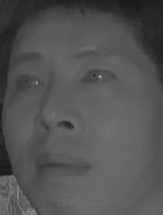eye: (79, 62, 120, 90), (6, 73, 47, 95)
mouth: (29, 148, 93, 184)
